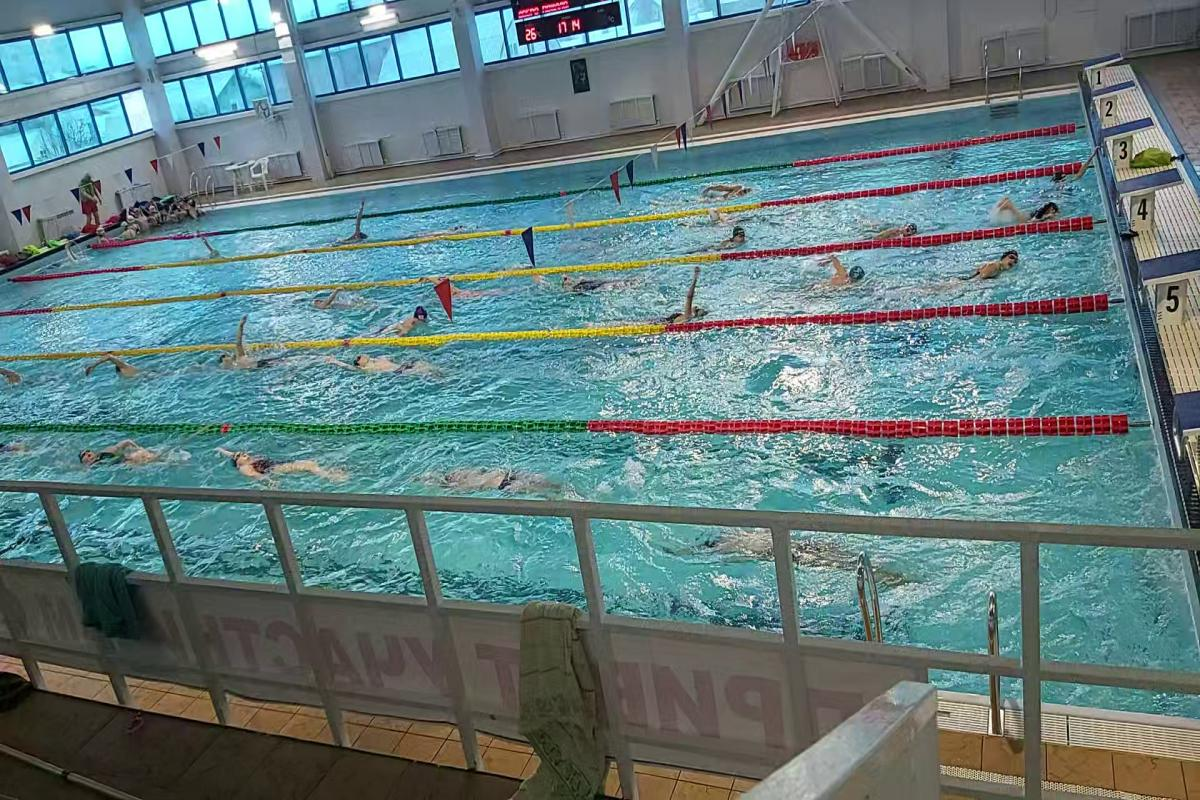swimmer: (411, 449, 567, 500), (212, 438, 360, 486), (66, 434, 184, 474), (326, 350, 443, 383), (946, 254, 1025, 290), (802, 255, 869, 297), (528, 270, 633, 294), (660, 270, 711, 318), (73, 360, 161, 382), (987, 197, 1062, 222), (208, 349, 280, 374), (376, 308, 436, 333), (866, 215, 929, 235), (296, 291, 365, 309), (711, 220, 755, 246), (334, 221, 372, 242)
